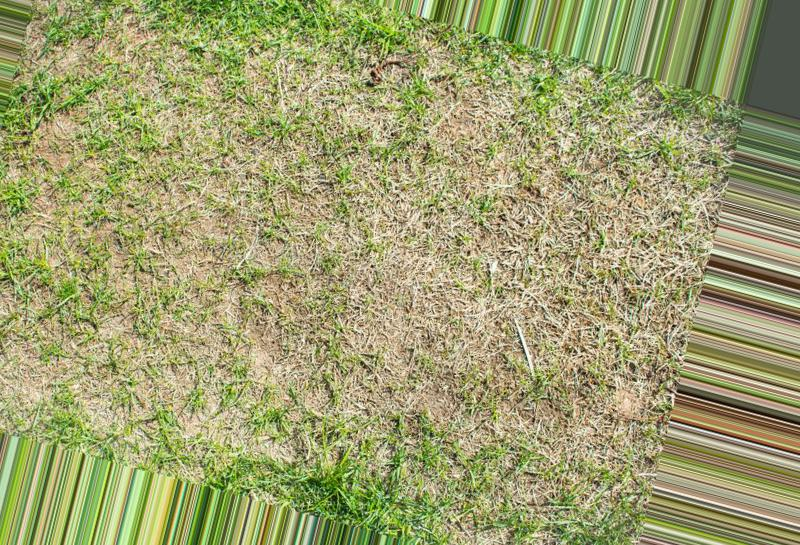patch: (77, 106, 555, 376), (314, 394, 572, 494), (596, 163, 653, 288)
